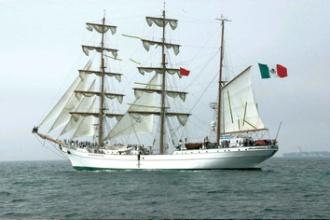fanchuan: (31, 1, 294, 170)
